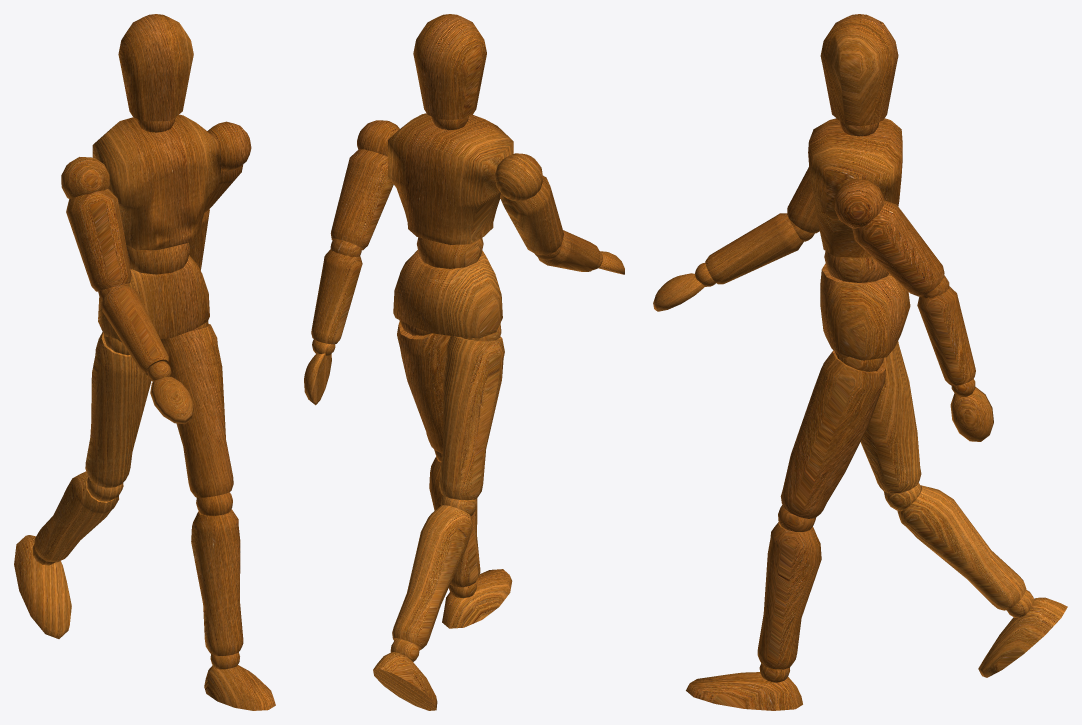
File: dummy_obj_5.obj
3 views of the same model, side by side, from view 1: azimuth 30°, elevation 25°; view 2: azimuth 150°, elevation 25°; view 3: azimuth 270°, elevation 25° (orthographic). The views are drawn at different scales.
Parts seen in each view (by area): view 1: dummy_hips3_dummy_belly_dummy_torso, dummy_hips3_dummy_rpelvis_dummy_rupleg, dummy_hips3_dummy_lpelvis_dummy_lupleg, dummy_hips3_dummy_belly_dummy_torso_dummy_neck_dummy_headq, dummy_hips3_dummy_rpelvis_dummy_rupleg_dummy_rknee_dummy_rleg, dummy_hips3_dummy_belly_dummy_torso_dummy_lshoulder_dummy_larm, dummy_hips3, dummy_hips3_dummy_lpelvis_dummy_lupleg_dummy_lknee_dummy_ll.000, dummy_hips3_dummy_lpelvis_dummy_lupleg_dummy_lknee_dummy_lleg, dummy_hips3_dummy_belly_dummy_torso_dummy_lshoulder_dummy_l.000, dummy_hips3_dummy_rpelvis_dummy_rupleg_dummy_rknee_dummy_rleg_d, dummy_hips3_dummy_belly_dummy_torso_dummy_lshoulder (+7 smaller); view 2: dummy_hips3_dummy_belly_dummy_torso, dummy_hips3_dummy_lpelvis_dummy_lupleg, dummy_hips3, dummy_hips3_dummy_belly_dummy_torso_dummy_neck_dummy_headq, dummy_hips3_dummy_lpelvis_dummy_lupleg_dummy_lknee_dummy_lleg, dummy_hips3_dummy_belly_dummy_torso_dummy_rshoulder_dummy_rarm, dummy_hips3_dummy_rpelvis_dummy_rupleg, dummy_hips3_dummy_belly_dummy_torso_dummy_rshoulder_dummy_r.001, dummy_hips3_dummy_belly_dummy_torso_dummy_lshoulder_dummy_larm, dummy_hips3_dummy_rpelvis_dummy_rupleg_dummy_rknee_dummy_rleg_d, dummy_hips3_dummy_lpelvis_dummy_lupleg_dummy_lknee_dummy_ll.000, dummy_hips3_dummy_belly_dummy_torso_dummy_lshoulder (+5 smaller); view 3: dummy_hips3_dummy_rpelvis_dummy_rupleg, dummy_hips3_dummy_belly_dummy_torso, dummy_hips3_dummy_belly_dummy_torso_dummy_neck_dummy_headq, dummy_hips3_dummy_lpelvis_dummy_lupleg_dummy_lknee_dummy_lleg, dummy_hips3, dummy_hips3_dummy_rpelvis_dummy_rupleg_dummy_rknee_dummy_rleg, dummy_hips3_dummy_lpelvis_dummy_lupleg, dummy_hips3_dummy_belly_dummy_torso_dummy_rshoulder_dummy_rarm, dummy_hips3_dummy_belly_dummy_torso_dummy_lshoulder_dummy_l.000, dummy_hips3_dummy_belly_dummy_torso_dummy_rshoulder_dummy_r.001, dummy_hips3_dummy_rpelvis_dummy_rupleg_dummy_rknee_dummy_rleg_d, dummy_hips3_dummy_lpelvis_dummy_lupleg_dummy_lknee_dummy_ll.000 (+5 smaller).
Boxes of the visible parts, x1,y1,x2,y2 form: dummy_hips3_dummy_belly_dummy_torso: (92, 114, 220, 250); dummy_hips3_dummy_rpelvis_dummy_rupleg: (160, 323, 233, 497); dummy_hips3_dummy_lpelvis_dummy_lupleg: (85, 332, 151, 487); dummy_hips3_dummy_belly_dummy_torso_dummy_neck_dummy_headq: (118, 14, 193, 121); dummy_hips3_dummy_rpelvis_dummy_rupleg_dummy_rknee_dummy_rleg: (191, 509, 243, 655); dummy_hips3_dummy_belly_dummy_torso_dummy_lshoulder_dummy_larm: (66, 188, 131, 291); dummy_hips3: (98, 255, 209, 342); dummy_hips3_dummy_lpelvis_dummy_lupleg_dummy_lknee_dummy_ll.000: (14, 535, 71, 638); dummy_hips3_dummy_lpelvis_dummy_lupleg_dummy_lknee_dummy_lleg: (34, 471, 118, 562); dummy_hips3_dummy_belly_dummy_torso_dummy_lshoulder_dummy_l.000: (102, 285, 168, 375); dummy_hips3_dummy_rpelvis_dummy_rupleg_dummy_rknee_dummy_rleg_d: (204, 665, 275, 710); dummy_hips3_dummy_belly_dummy_torso_dummy_lshoulder: (61, 157, 109, 198); dummy_hips3_dummy_belly_dummy_torso: (388, 113, 513, 244); dummy_hips3_dummy_lpelvis_dummy_lupleg: (439, 336, 504, 500); dummy_hips3: (393, 250, 502, 338); dummy_hips3_dummy_belly_dummy_torso_dummy_neck_dummy_headq: (413, 14, 486, 120); dummy_hips3_dummy_lpelvis_dummy_lupleg_dummy_lknee_dummy_lleg: (392, 505, 473, 649); dummy_hips3_dummy_belly_dummy_torso_dummy_rshoulder_dummy_rarm: (330, 149, 393, 250); dummy_hips3_dummy_rpelvis_dummy_rupleg: (397, 321, 450, 453); dummy_hips3_dummy_belly_dummy_torso_dummy_rshoulder_dummy_r.001: (311, 249, 362, 344); dummy_hips3_dummy_belly_dummy_torso_dummy_lshoulder_dummy_larm: (500, 175, 563, 255); dummy_hips3_dummy_rpelvis_dummy_rupleg_dummy_rknee_dummy_rleg_d: (442, 569, 512, 628); dummy_hips3_dummy_lpelvis_dummy_lupleg_dummy_lknee_dummy_ll.000: (373, 652, 437, 710); dummy_hips3_dummy_belly_dummy_torso_dummy_lshoulder: (495, 153, 542, 201); dummy_hips3_dummy_rpelvis_dummy_rupleg: (780, 350, 885, 518); dummy_hips3_dummy_belly_dummy_torso: (808, 118, 902, 257); dummy_hips3_dummy_belly_dummy_torso_dummy_neck_dummy_headq: (820, 14, 898, 125); dummy_hips3_dummy_lpelvis_dummy_lupleg_dummy_lknee_dummy_lleg: (897, 485, 1026, 610); dummy_hips3: (820, 263, 910, 360); dummy_hips3_dummy_rpelvis_dummy_rupleg_dummy_rknee_dummy_rleg: (757, 522, 821, 669); dummy_hips3_dummy_lpelvis_dummy_lupleg: (860, 341, 921, 493); dummy_hips3_dummy_belly_dummy_torso_dummy_rshoulder_dummy_rarm: (852, 200, 944, 296); dummy_hips3_dummy_belly_dummy_torso_dummy_lshoulder_dummy_l.000: (705, 213, 803, 284); dummy_hips3_dummy_belly_dummy_torso_dummy_rshoulder_dummy_r.001: (917, 286, 975, 385); dummy_hips3_dummy_rpelvis_dummy_rupleg_dummy_rknee_dummy_rleg_d: (686, 672, 802, 710); dummy_hips3_dummy_lpelvis_dummy_lupleg_dummy_lknee_dummy_ll.000: (978, 597, 1067, 677).
Size of the model in its own units: 52.56 by 176 by 97.82.
Materials: 1 (1 with a texture image).
